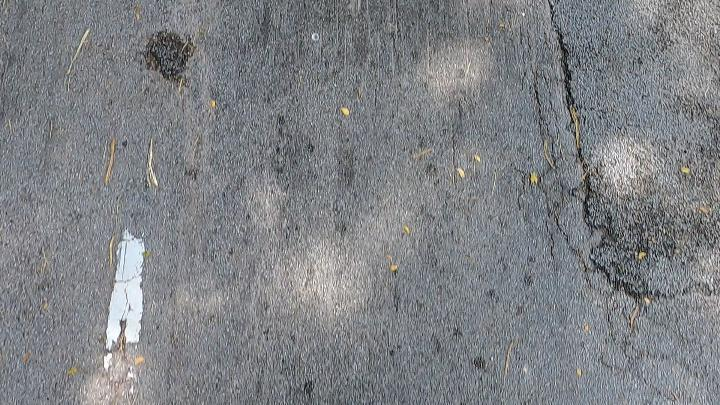Lane: (96, 229, 151, 366), (104, 230, 144, 369)
Pothole: (548, 0, 720, 296), (553, 0, 719, 296), (133, 27, 199, 87), (144, 31, 192, 81)
